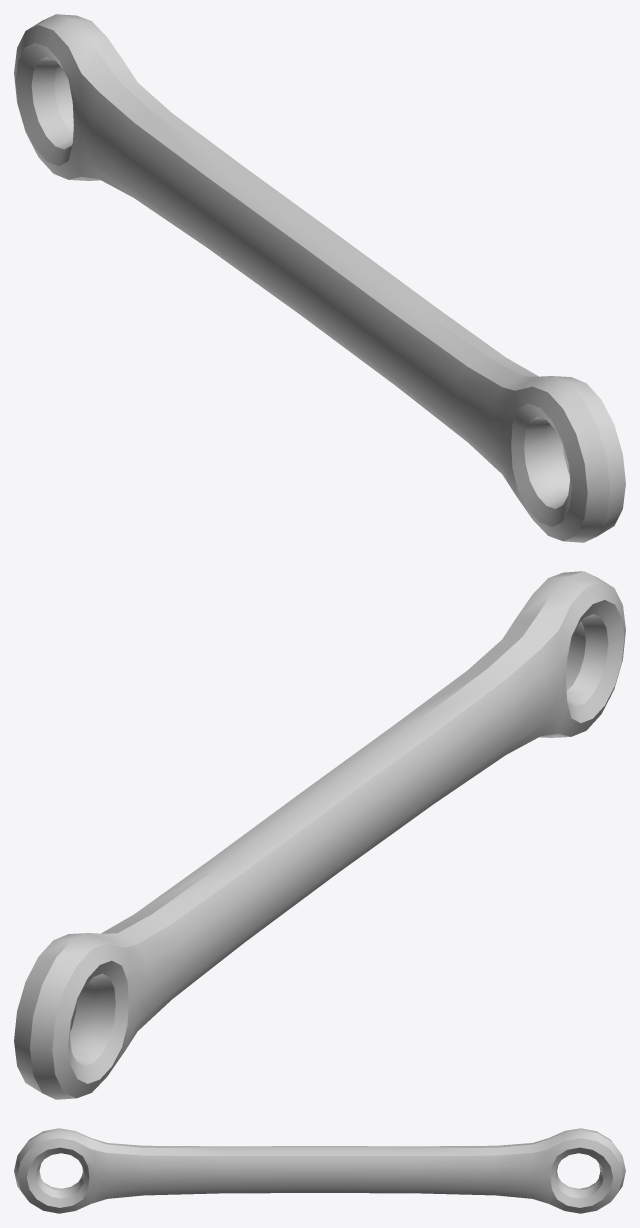
Rendered from item_01.fbx.
3 views of the same model, one above another, from view 1: azimuth 30°, elevation 25°; view 2: azimuth 150°, elevation 25°; view 3: azimuth 270°, elevation 25° (orthographic). The views are drawn at different scales.
Parts seen in each view (by area): view 1: Joint.001; view 2: Joint.001; view 3: Joint.001.
Boxes of the visible parts, x1,y1,x2,y2 form: Joint.001: (14,14,625,542); Joint.001: (14,571,625,1099); Joint.001: (14,1128,625,1213).
Size of the model in its own units: 4.11 by 10.54 by 71.91.
Materials: 1 (1 with a texture image).
